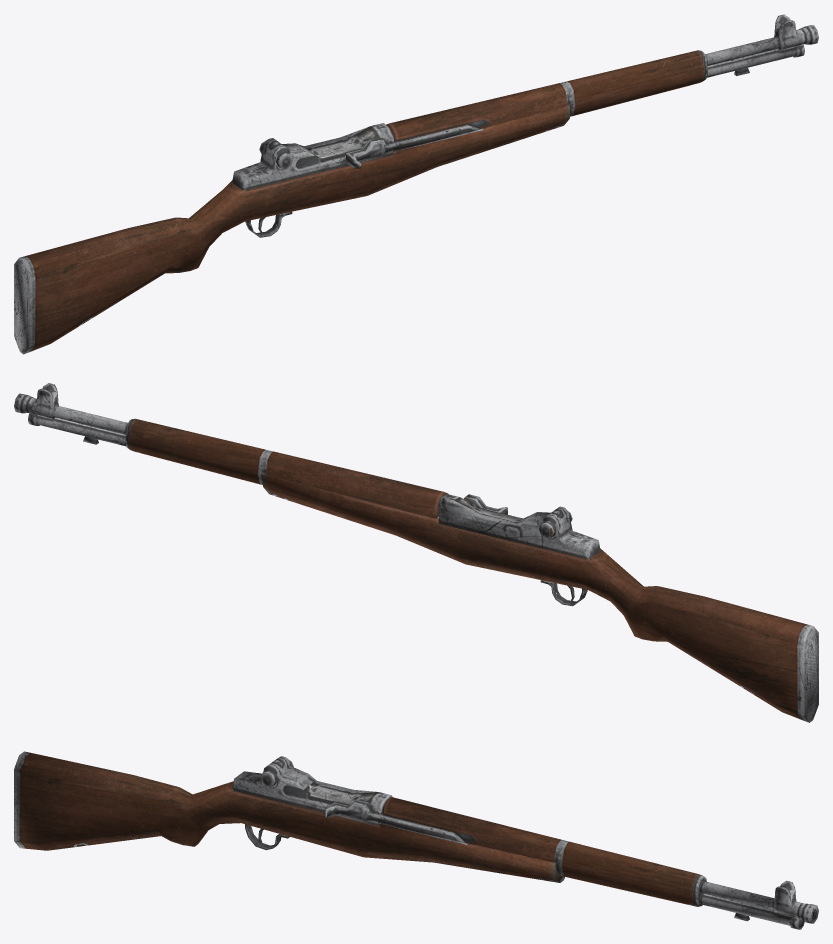
The model's file is SM_GunClassicRifle.FBX.
3 renders of one model, top to bottom at view 1: azimuth 30°, elevation 25°; view 2: azimuth 150°, elevation 25°; view 3: azimuth 330°, elevation 25°, orthographic.
Visible parts, largest first — view 1: SM_GunClassicRifle; view 2: SM_GunClassicRifle; view 3: SM_GunClassicRifle.
Boxes of the visible parts, x1,y1,x2,y2 form: SM_GunClassicRifle: [14, 14, 818, 354]; SM_GunClassicRifle: [14, 383, 818, 722]; SM_GunClassicRifle: [14, 751, 818, 929].
Bounding box in the file's own units: 111 × 19.86 × 6.74.
